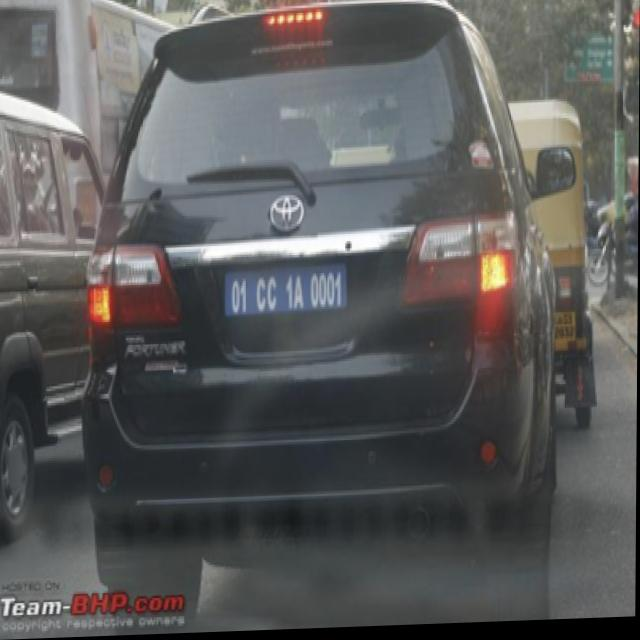licence: (224, 268, 346, 314)
